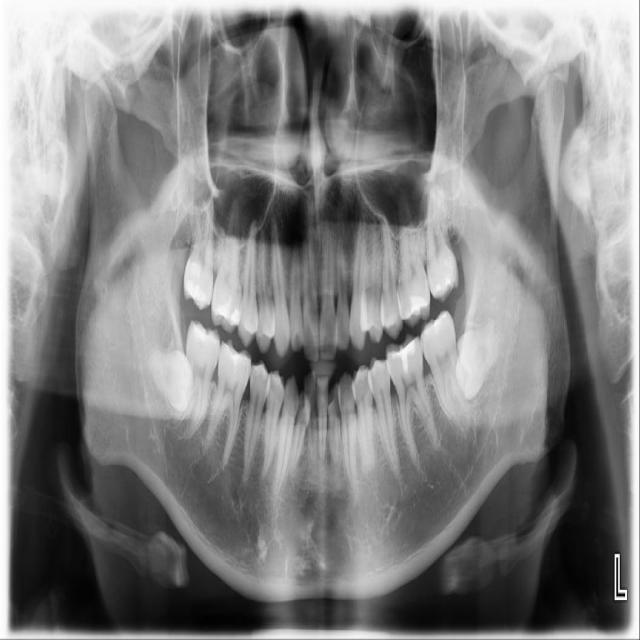Filling: (391, 340, 416, 372), (222, 344, 250, 369), (215, 305, 242, 327), (407, 292, 427, 319), (254, 366, 269, 382)
impacted tooth: (455, 294, 513, 398), (144, 339, 194, 412)
